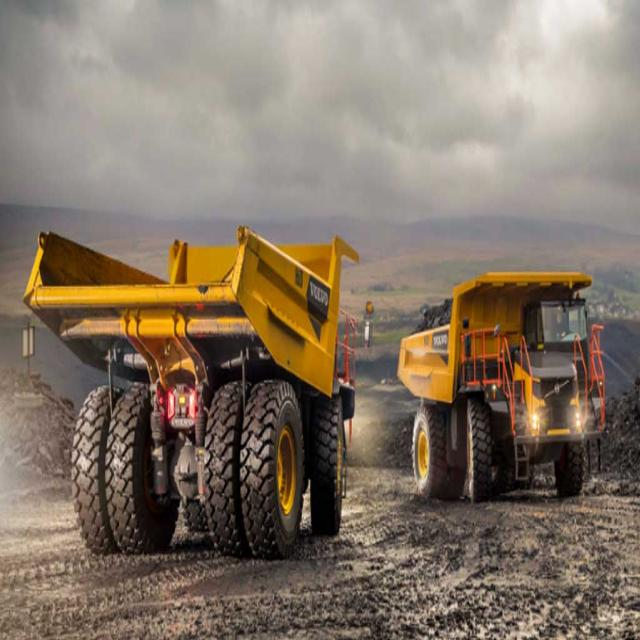dump_truck: (19, 200, 364, 559), (392, 259, 609, 506)
